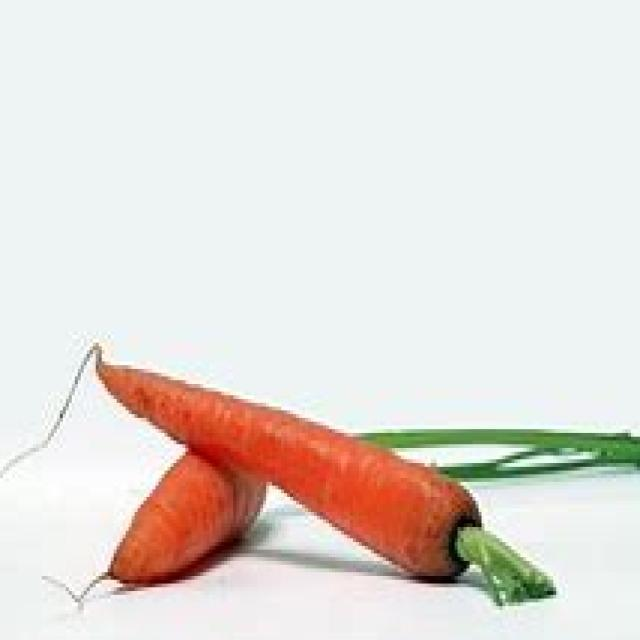carrot: (94, 357, 477, 586), (106, 454, 266, 589)
